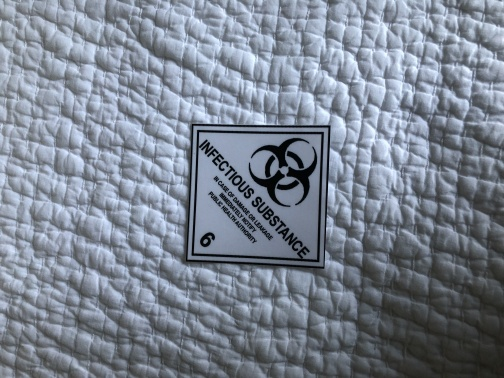InfectiousSubstance: (186, 125, 333, 269)
